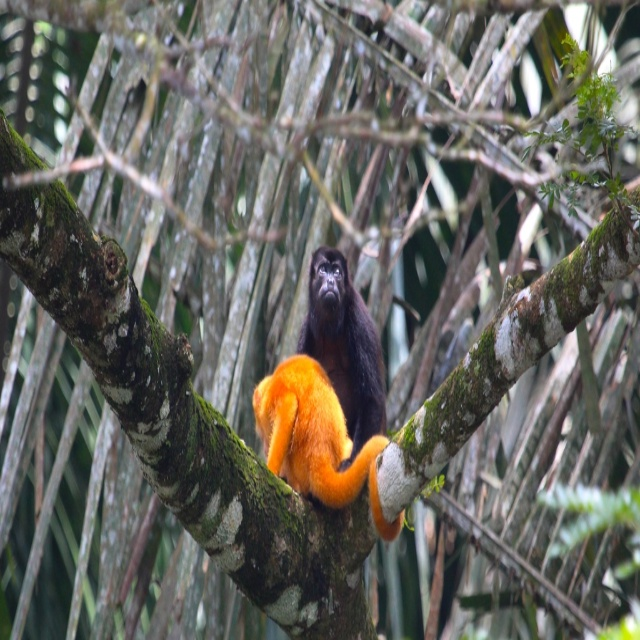Monkey: (289, 245, 388, 503)
